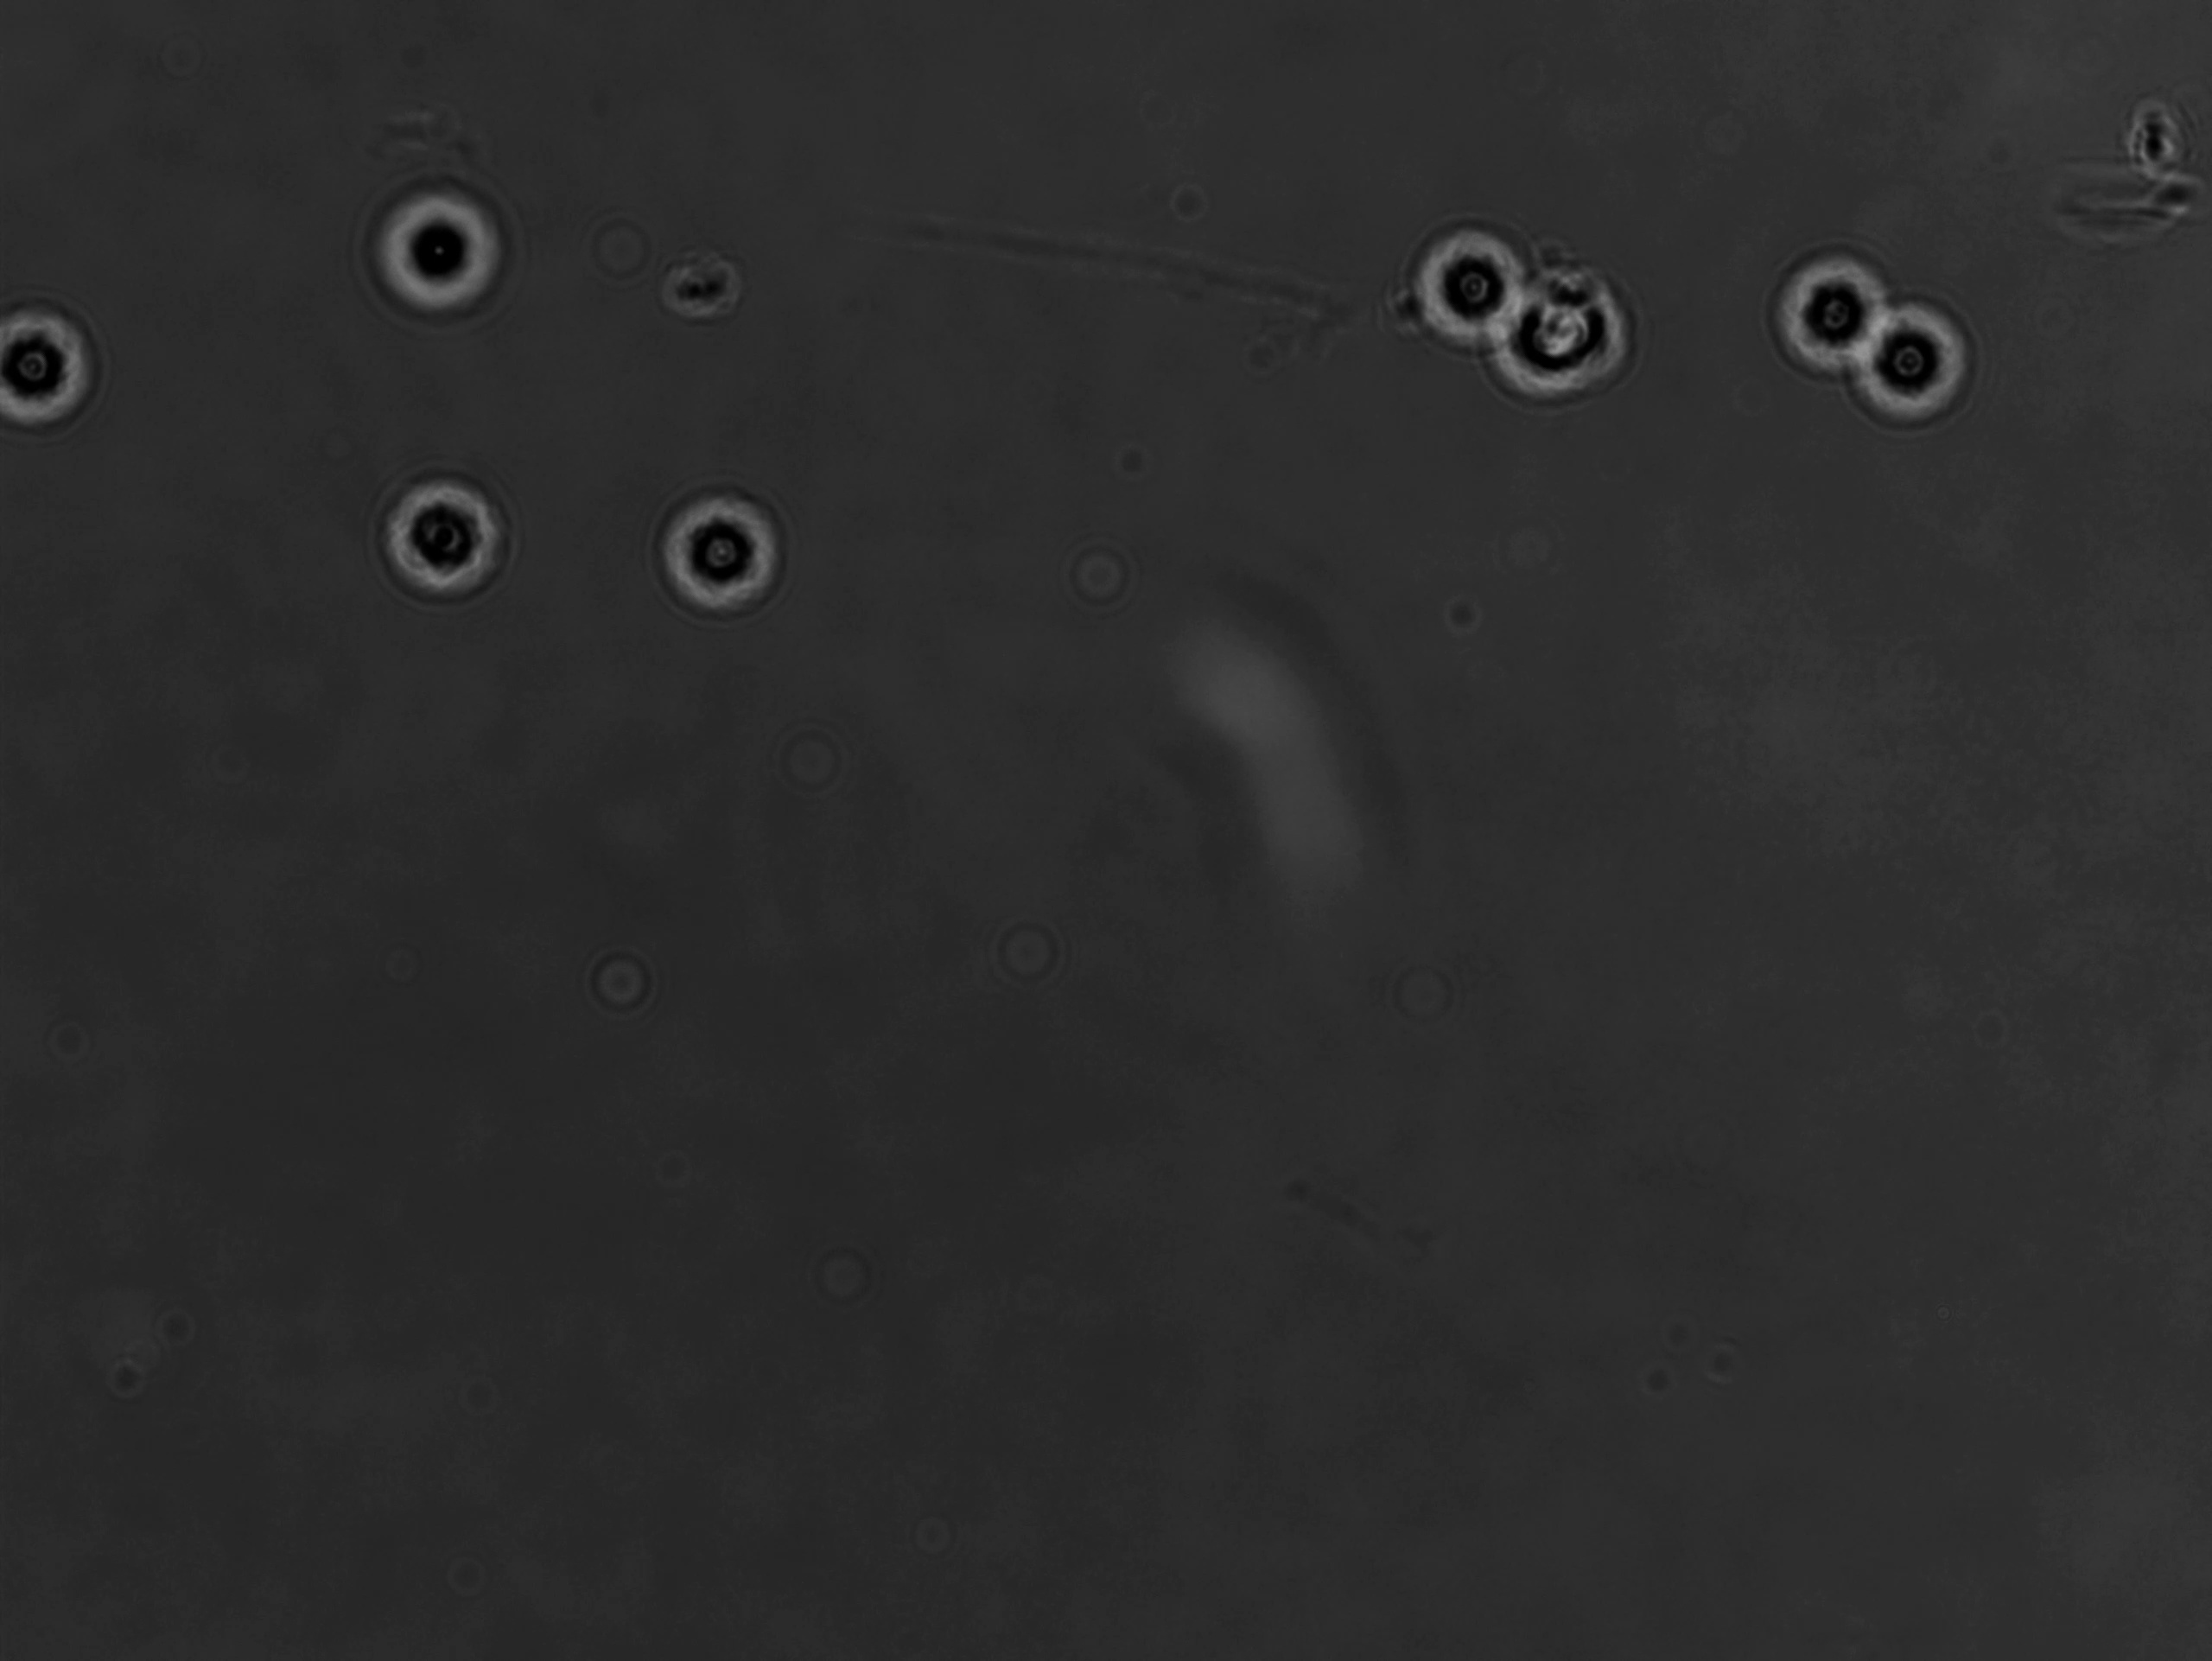depth:-20: (354, 448, 525, 611), (1389, 202, 1547, 366), (637, 476, 801, 632), (1760, 223, 1915, 387), (351, 173, 518, 325), (1851, 293, 1990, 434)
